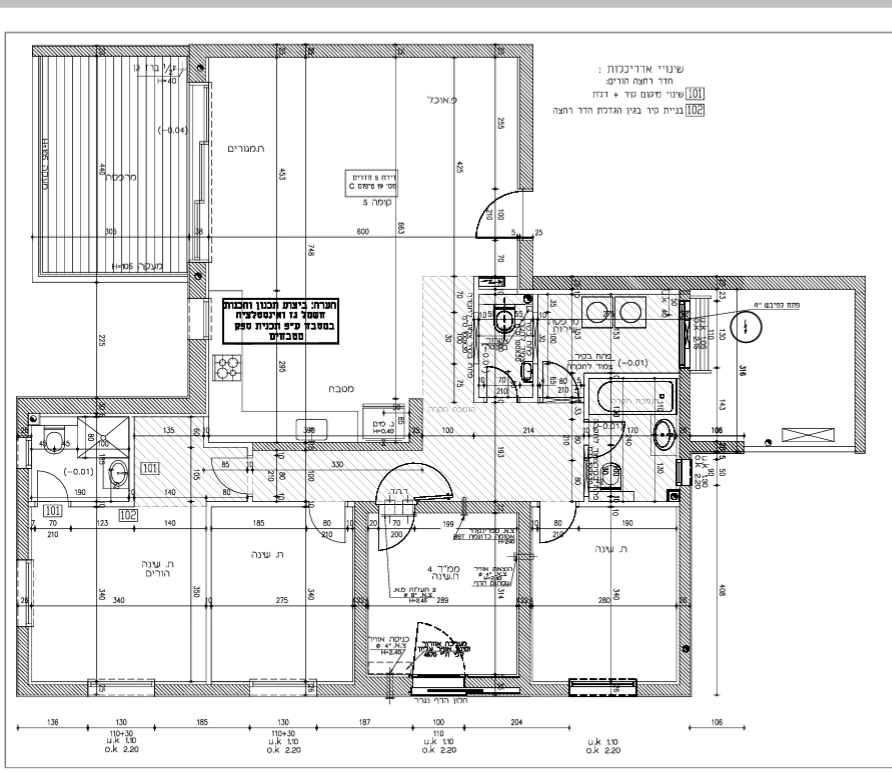door: (469, 189, 520, 246), (535, 508, 583, 550), (372, 512, 420, 554), (304, 506, 352, 548), (200, 452, 248, 494), (32, 461, 80, 503)
wall: (517, 275, 865, 290), (190, 46, 532, 58), (17, 398, 206, 415), (354, 501, 370, 696), (678, 486, 692, 697), (518, 500, 531, 696), (854, 274, 866, 453), (32, 47, 189, 56)
window: (187, 84, 209, 262), (14, 558, 34, 627), (85, 678, 156, 697), (245, 679, 316, 698), (187, 296, 209, 340), (15, 436, 33, 468)
